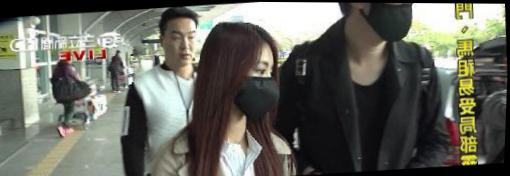NONE: (167, 27, 201, 65)
OK: (229, 59, 288, 117)
WRONG: (353, 3, 420, 46)
